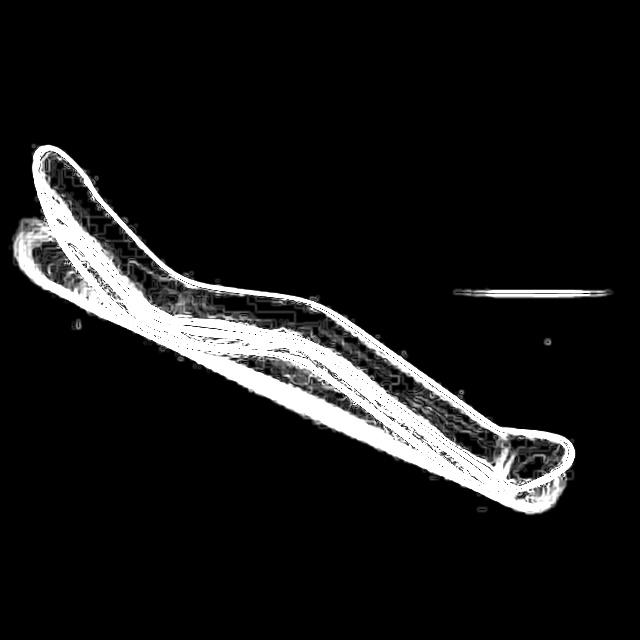separador: (38, 153, 571, 493)
